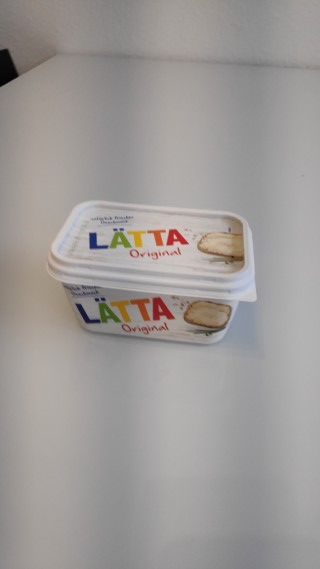laetta: (46, 198, 259, 347)
